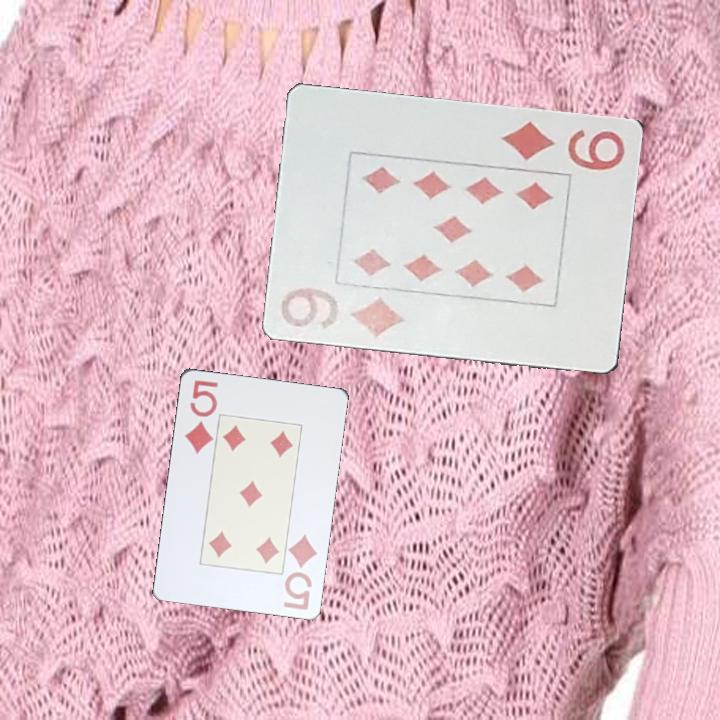5d: (280, 530, 320, 613), (181, 376, 221, 457)
9d: (277, 283, 408, 343), (497, 115, 629, 173)
